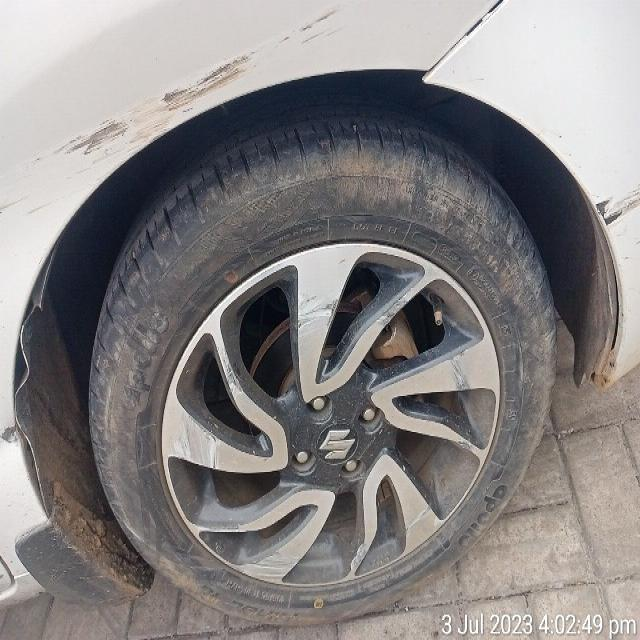damage: (51, 0, 358, 166), (593, 177, 640, 230), (0, 419, 24, 453)
